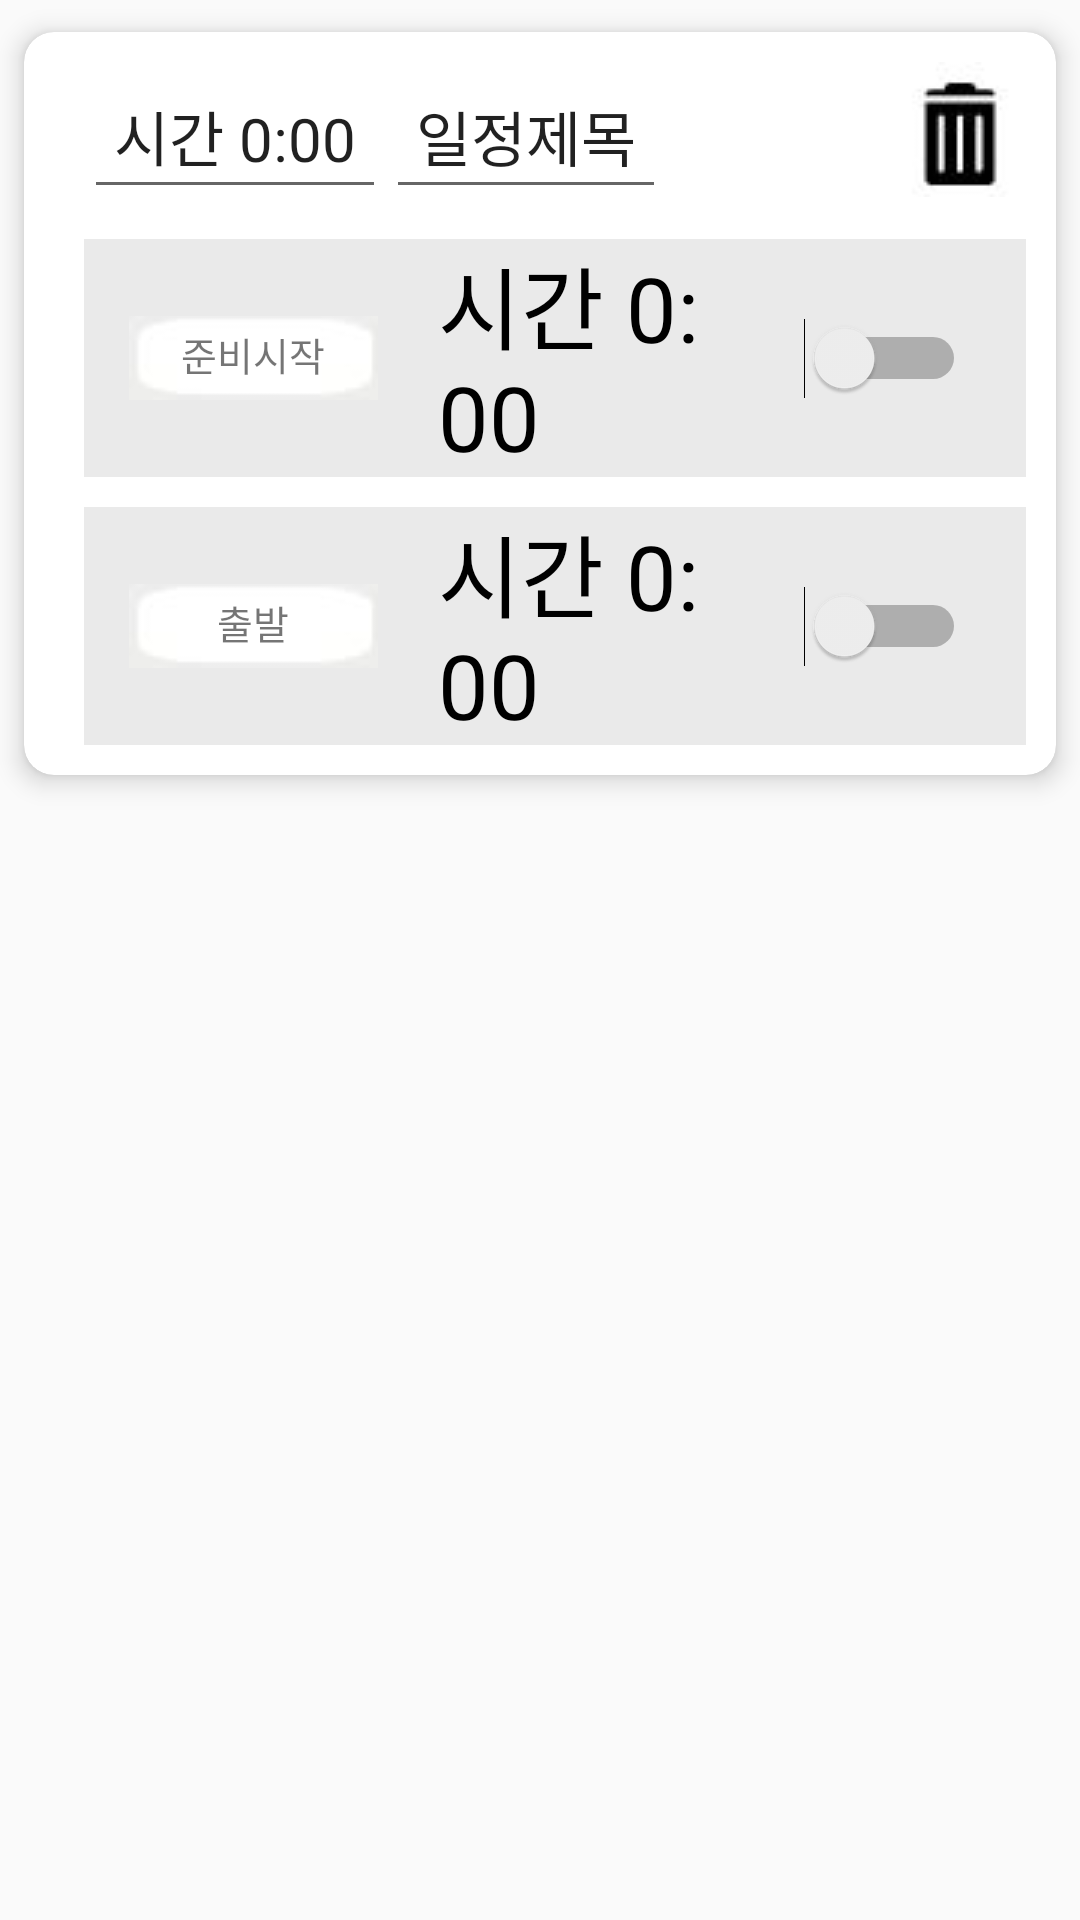

Icons on this 1080px×1920px Android screen, each with its box as (left=x1, top=y1, right=x2, bottom=y2):
delete: (left=923, top=82, right=997, bottom=186)
